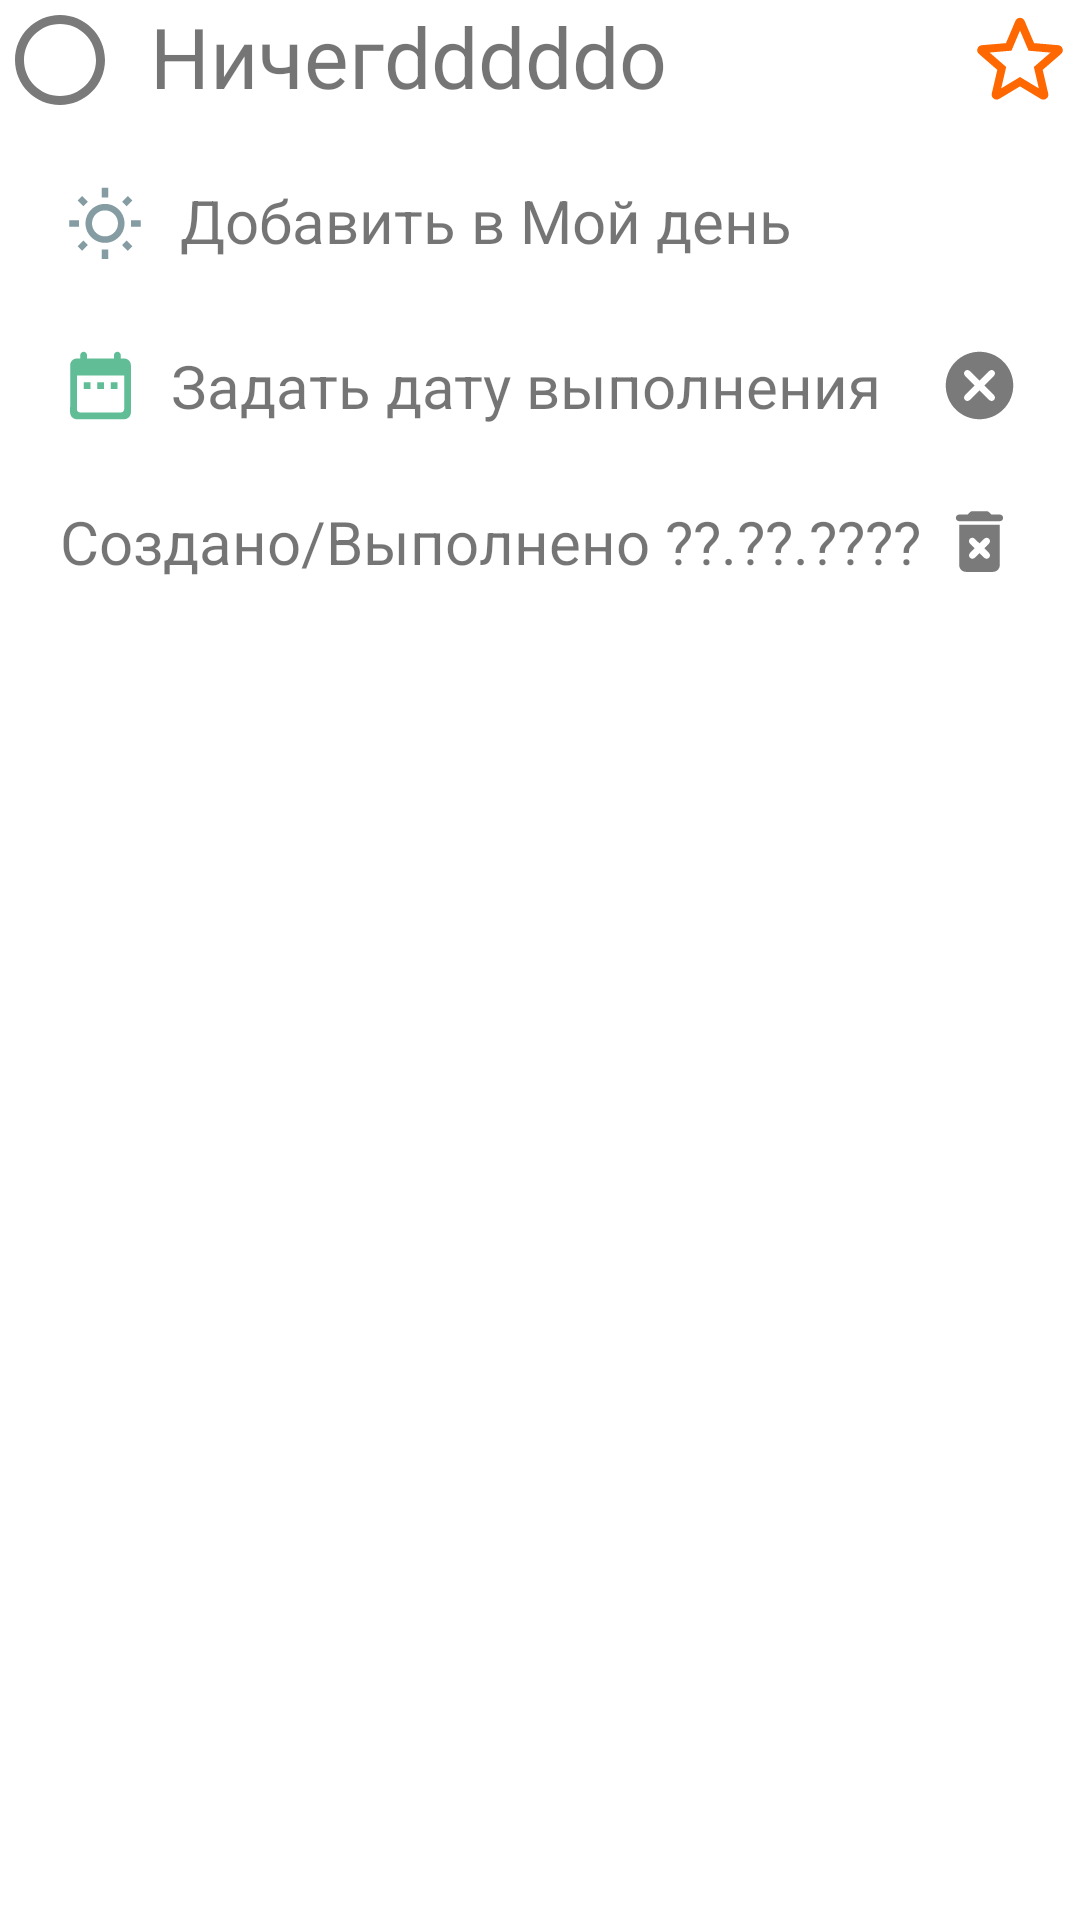

Point at icon controls on the screen. Image size 1080px×1920px, points as point (x, y).
cancel: point (979, 385)
circle: point (60, 60)
day: point (105, 223)
delete: point (979, 541)
important: point (1020, 58)
planned: point (100, 385)
